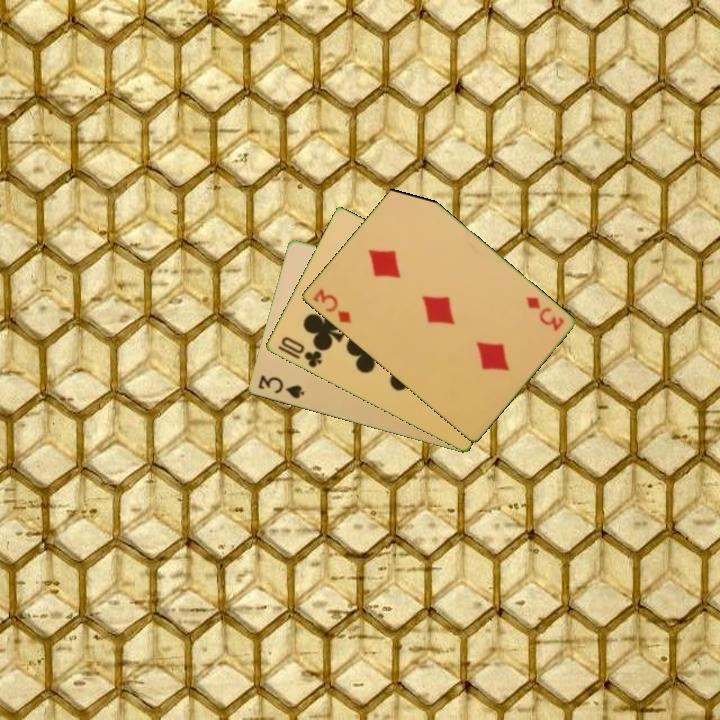10c: (277, 333, 325, 371)
3d: (309, 285, 354, 326), (522, 293, 567, 334)
3s: (254, 371, 307, 402)
